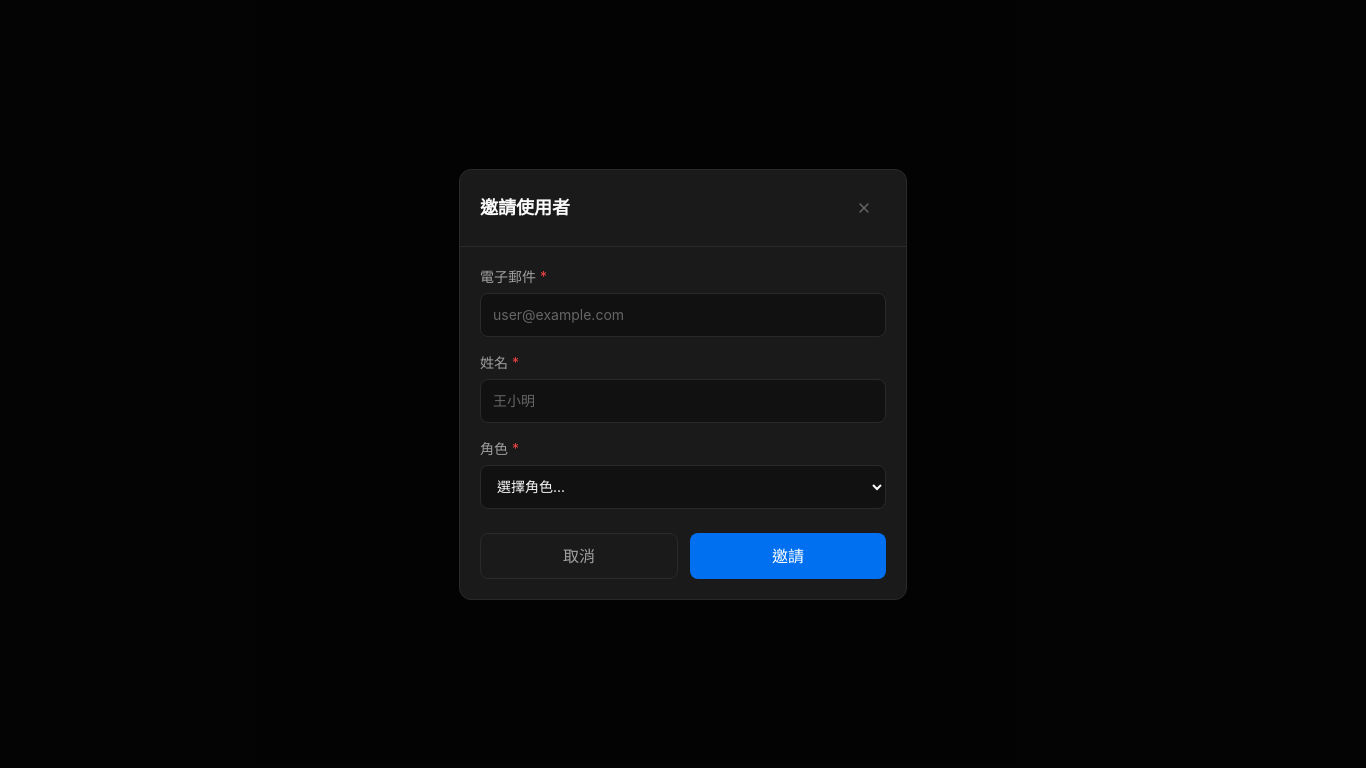
it: InviteUserModal › Form Submission › shows error on submission failure
The width and height of the screenshot is (1366, 768).
Step 1. Type "new@example.com" into the field labelled "電子郵件 *" → (683, 314), box [480, 292, 886, 336]
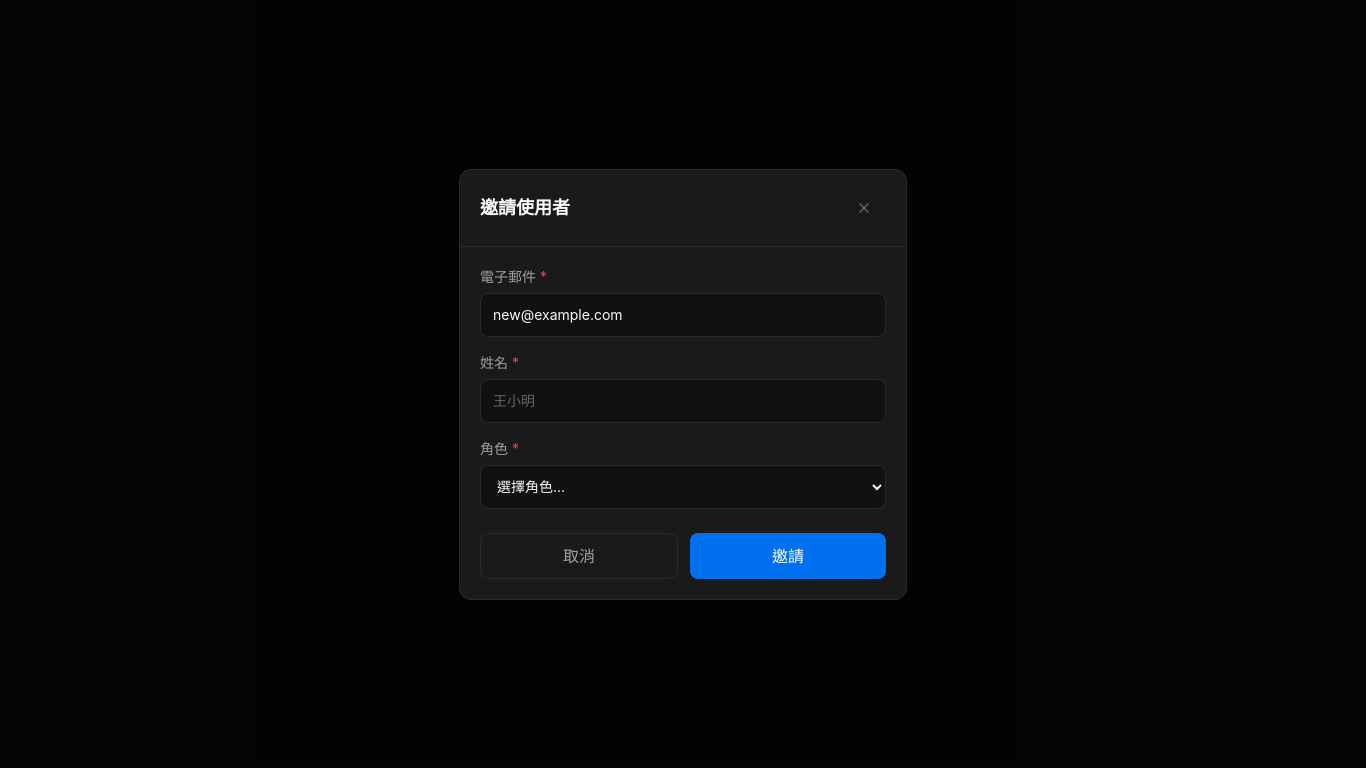
Step 2. Type "新成員" into the field labelled "姓名 *" → (683, 400), box [480, 378, 886, 422]
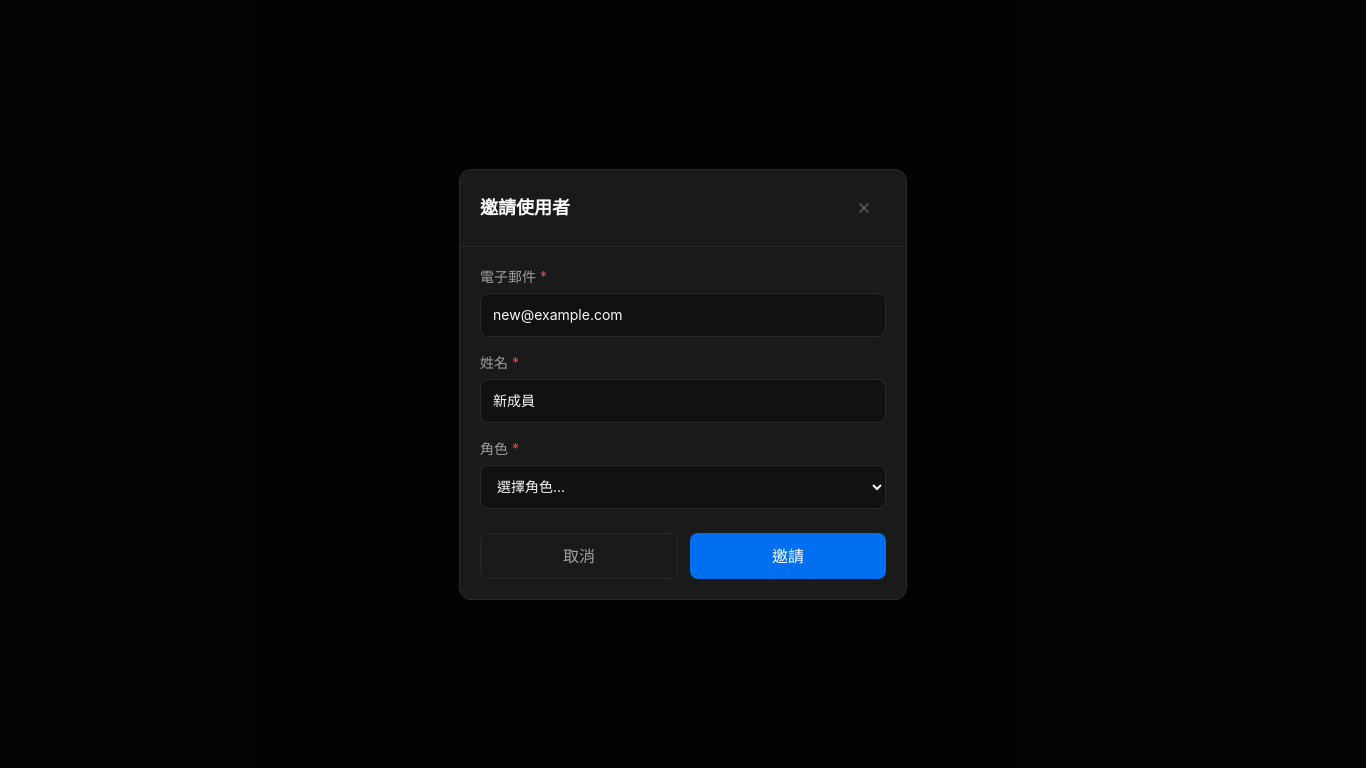
Step 3. Select "成員" in the dropdown labelled "角色 *" → (683, 486), box [480, 464, 886, 508]
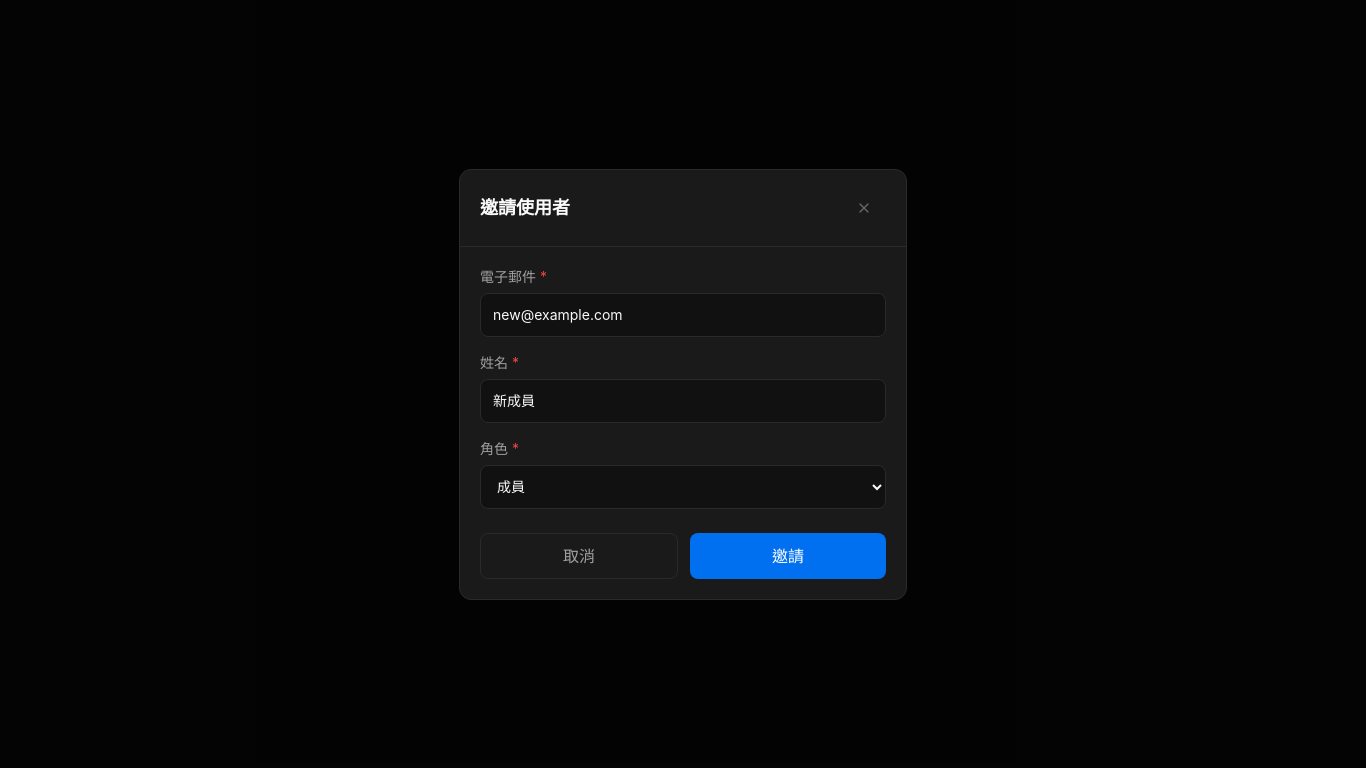
Step 4. Submit the text "邀請", box [460, 246, 906, 598]
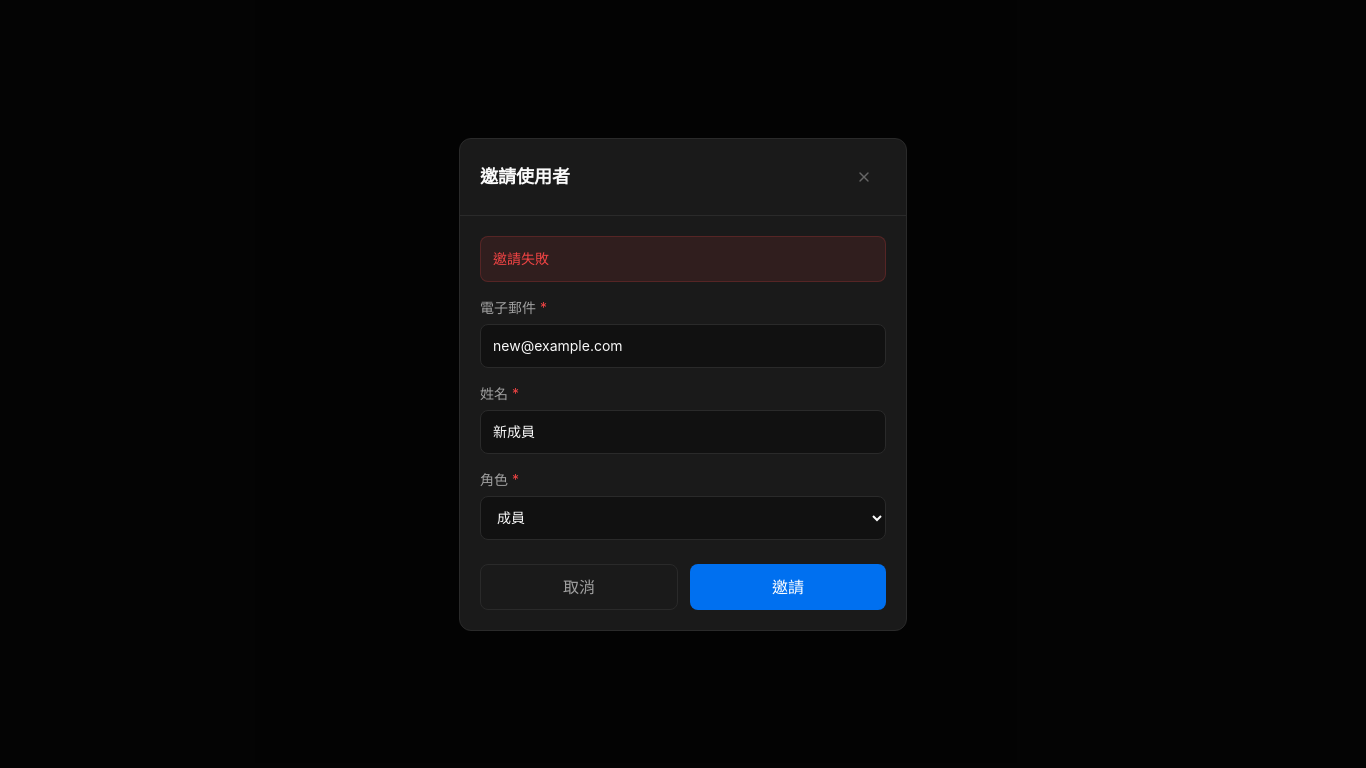
Now the text "邀請失敗" is shown, box [480, 236, 886, 282]
